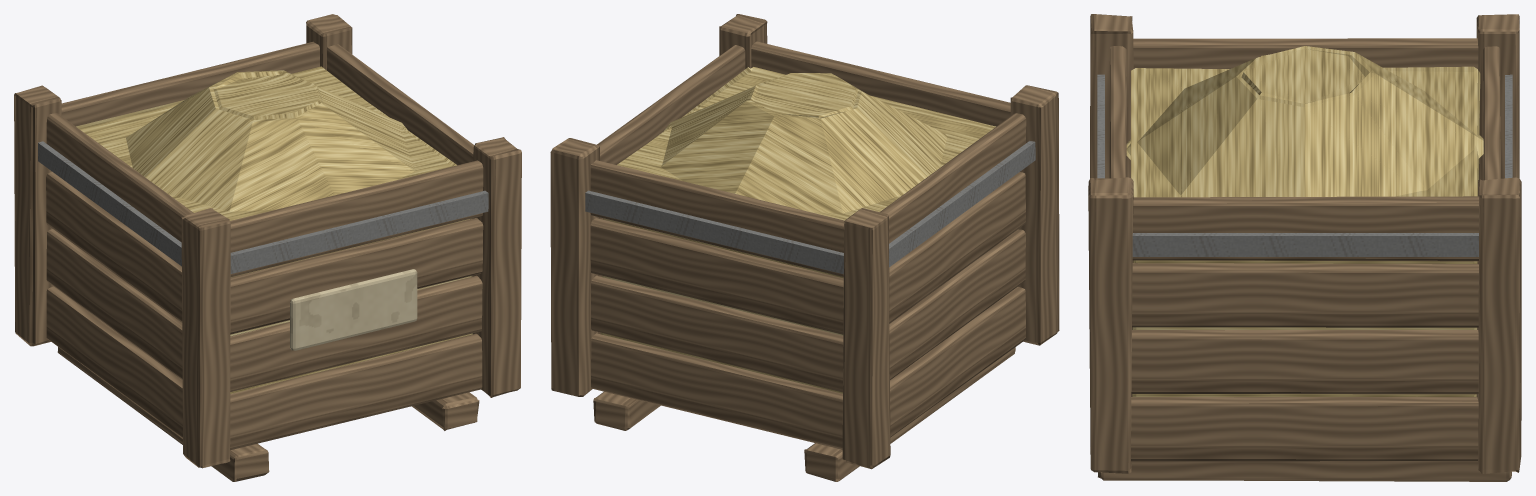
The model's file is mill_bin_small.glb.
3 views of the same model, side by side, from view 1: azimuth 30°, elevation 25°; view 2: azimuth 150°, elevation 25°; view 3: azimuth 270°, elevation 25° (orthographic). The views are drawn at different scales.
Visible parts, largest first — view 1: MillBinSmall, HayFill; view 2: MillBinSmall, HayFill; view 3: MillBinSmall, HayFill.
Boxes of the visible parts, box(x1,y1,x2,y2) form: MillBinSmall: box(14, 14, 521, 481); HayFill: box(76, 66, 472, 393); MillBinSmall: box(550, 14, 1059, 481); HayFill: box(600, 67, 995, 393); MillBinSmall: box(1088, 14, 1521, 481); HayFill: box(1126, 46, 1483, 396).
Bounding box in the file's own units: 1.29 × 1.13 × 1.3.
4 materials, 4 textured.
